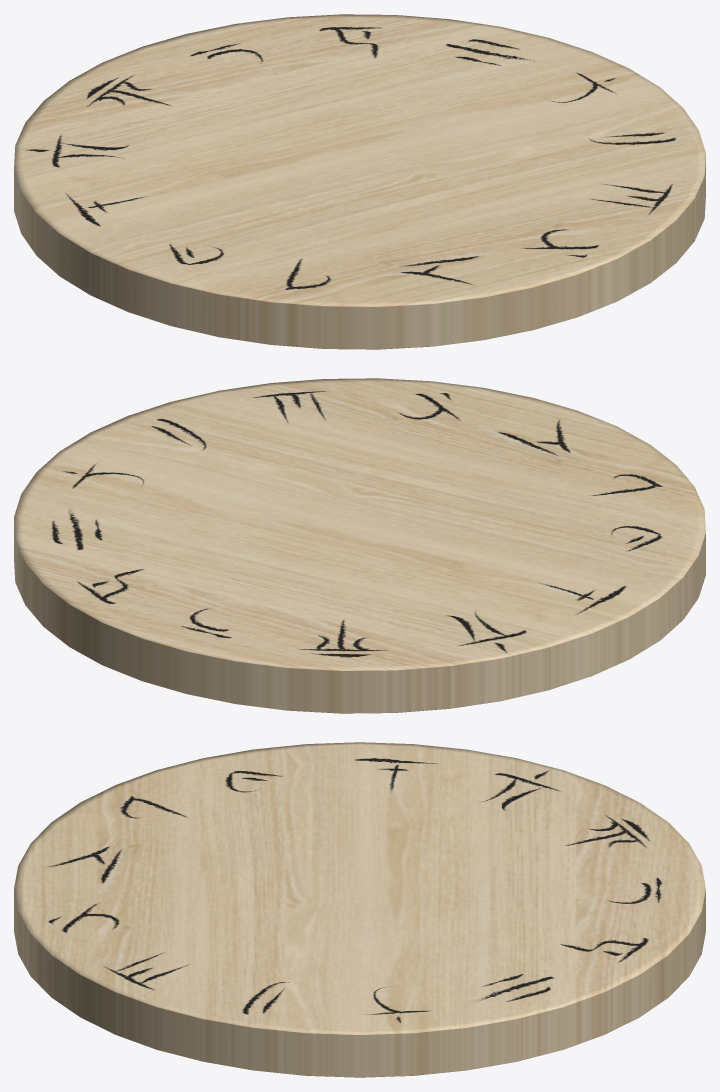
File: Cypher.FBX
3 views of the same model, one above another, from view 1: azimuth 30°, elevation 25°; view 2: azimuth 150°, elevation 25°; view 3: azimuth 270°, elevation 25° (orthographic).
Visible parts, largest first — view 1: Cypher005; view 2: Cypher005; view 3: Cypher005.
Part boxes in pixels (x1,y1,x2,y2): Cypher005: [14, 14, 705, 349]; Cypher005: [14, 378, 705, 713]; Cypher005: [14, 742, 705, 1077].
Size of the model in its own units: 28.89 by 2.04 by 28.88.
1 material, 1 textured.
